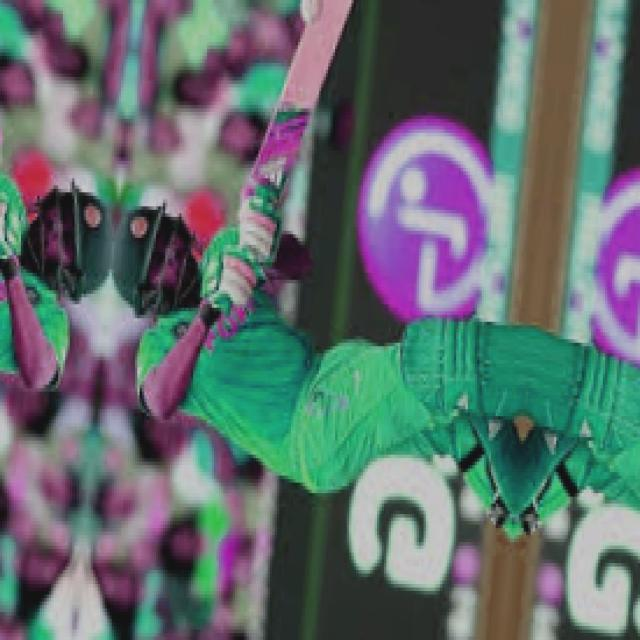toe: (317, 0, 354, 13)
